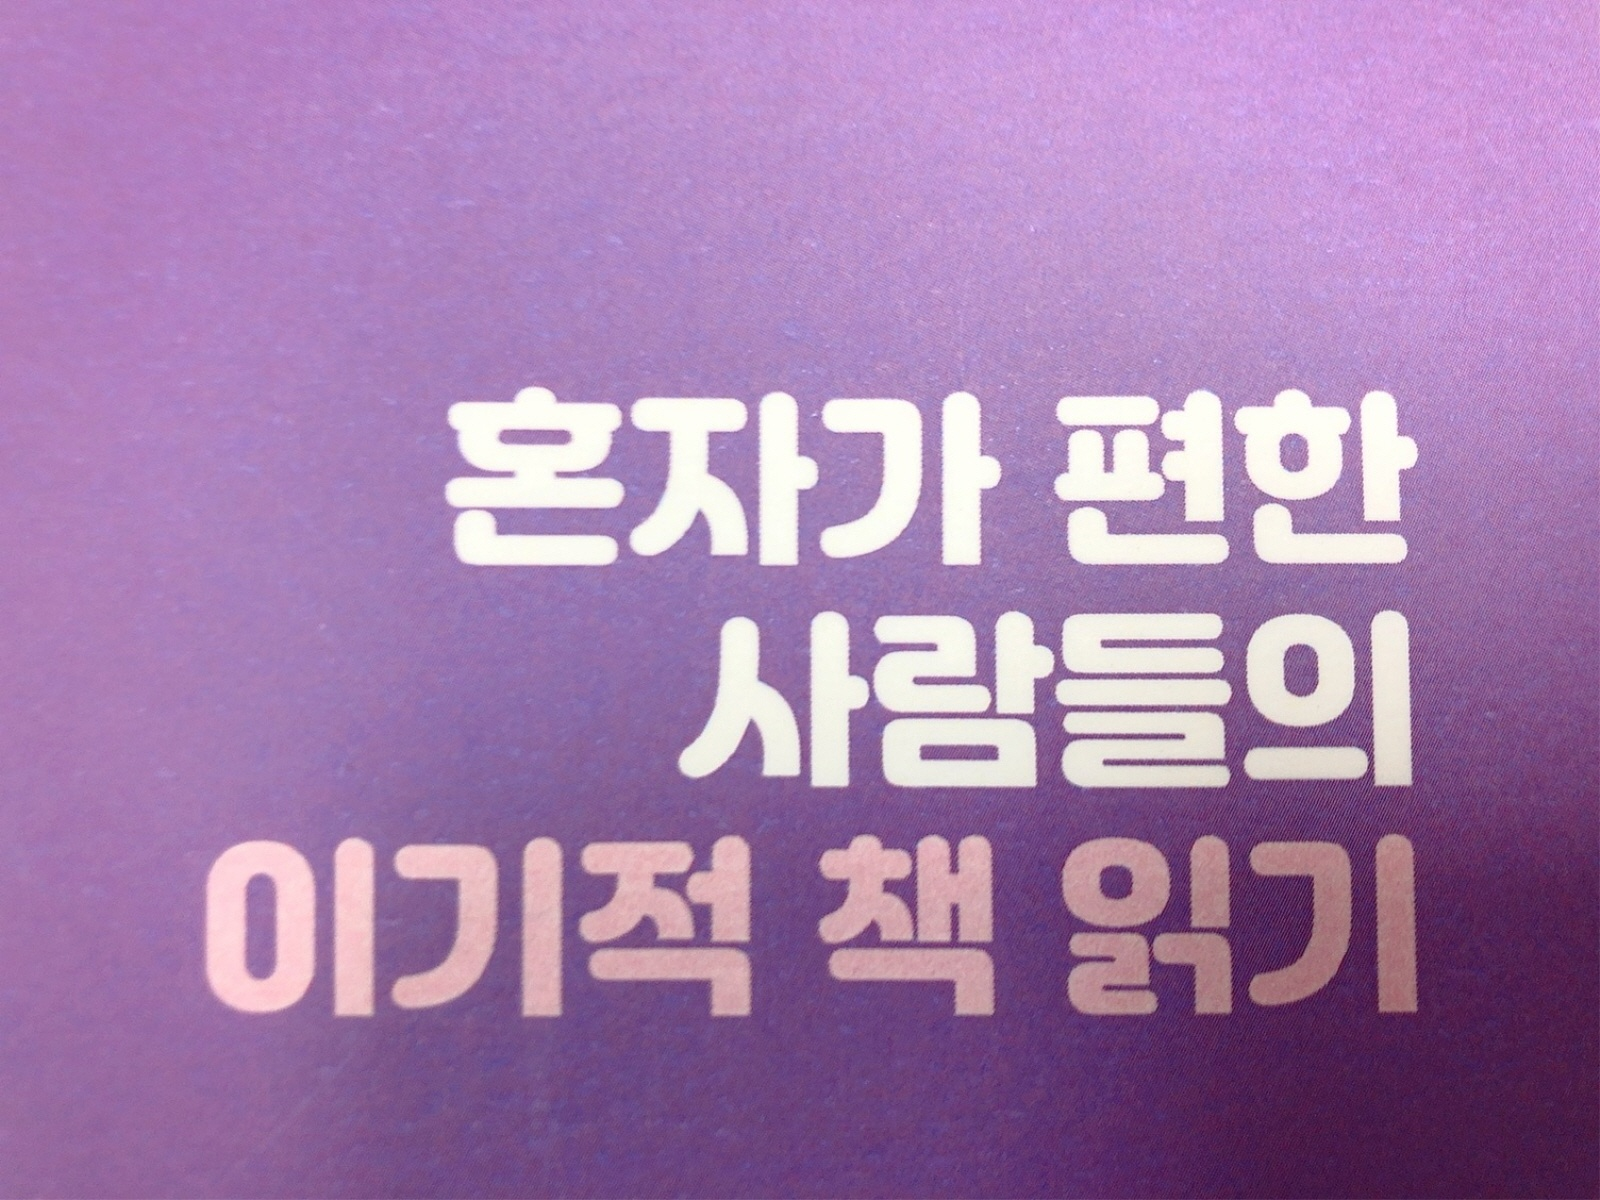text: (173, 823, 1465, 1060), (397, 367, 1463, 592), (645, 594, 1463, 832)
